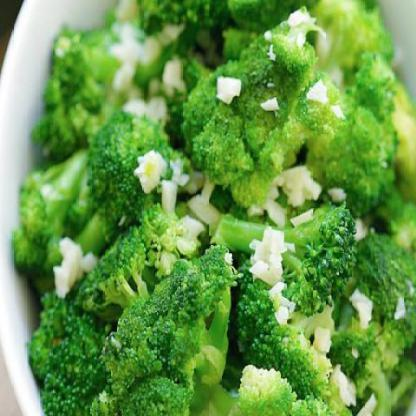broccoli: (8, 0, 416, 415)
